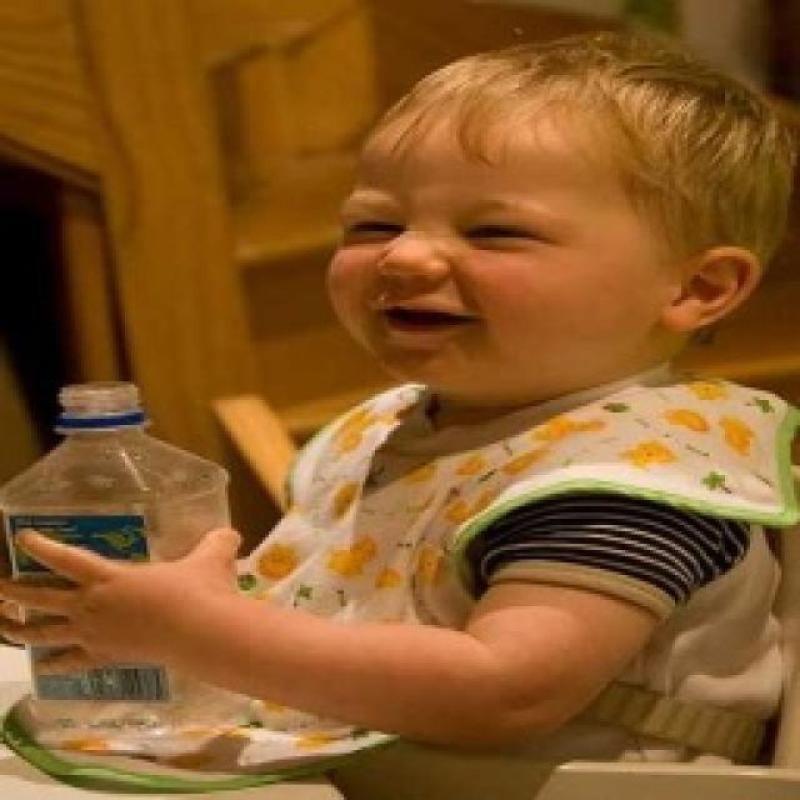botella: (0, 378, 238, 747)
